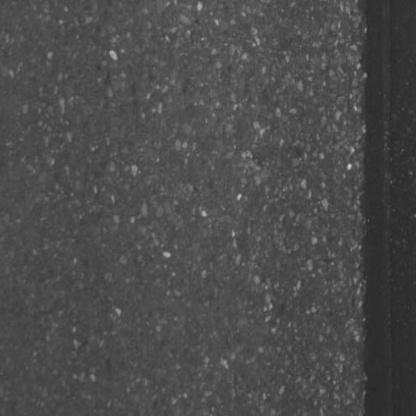Cracks: (380, 0, 401, 416)
